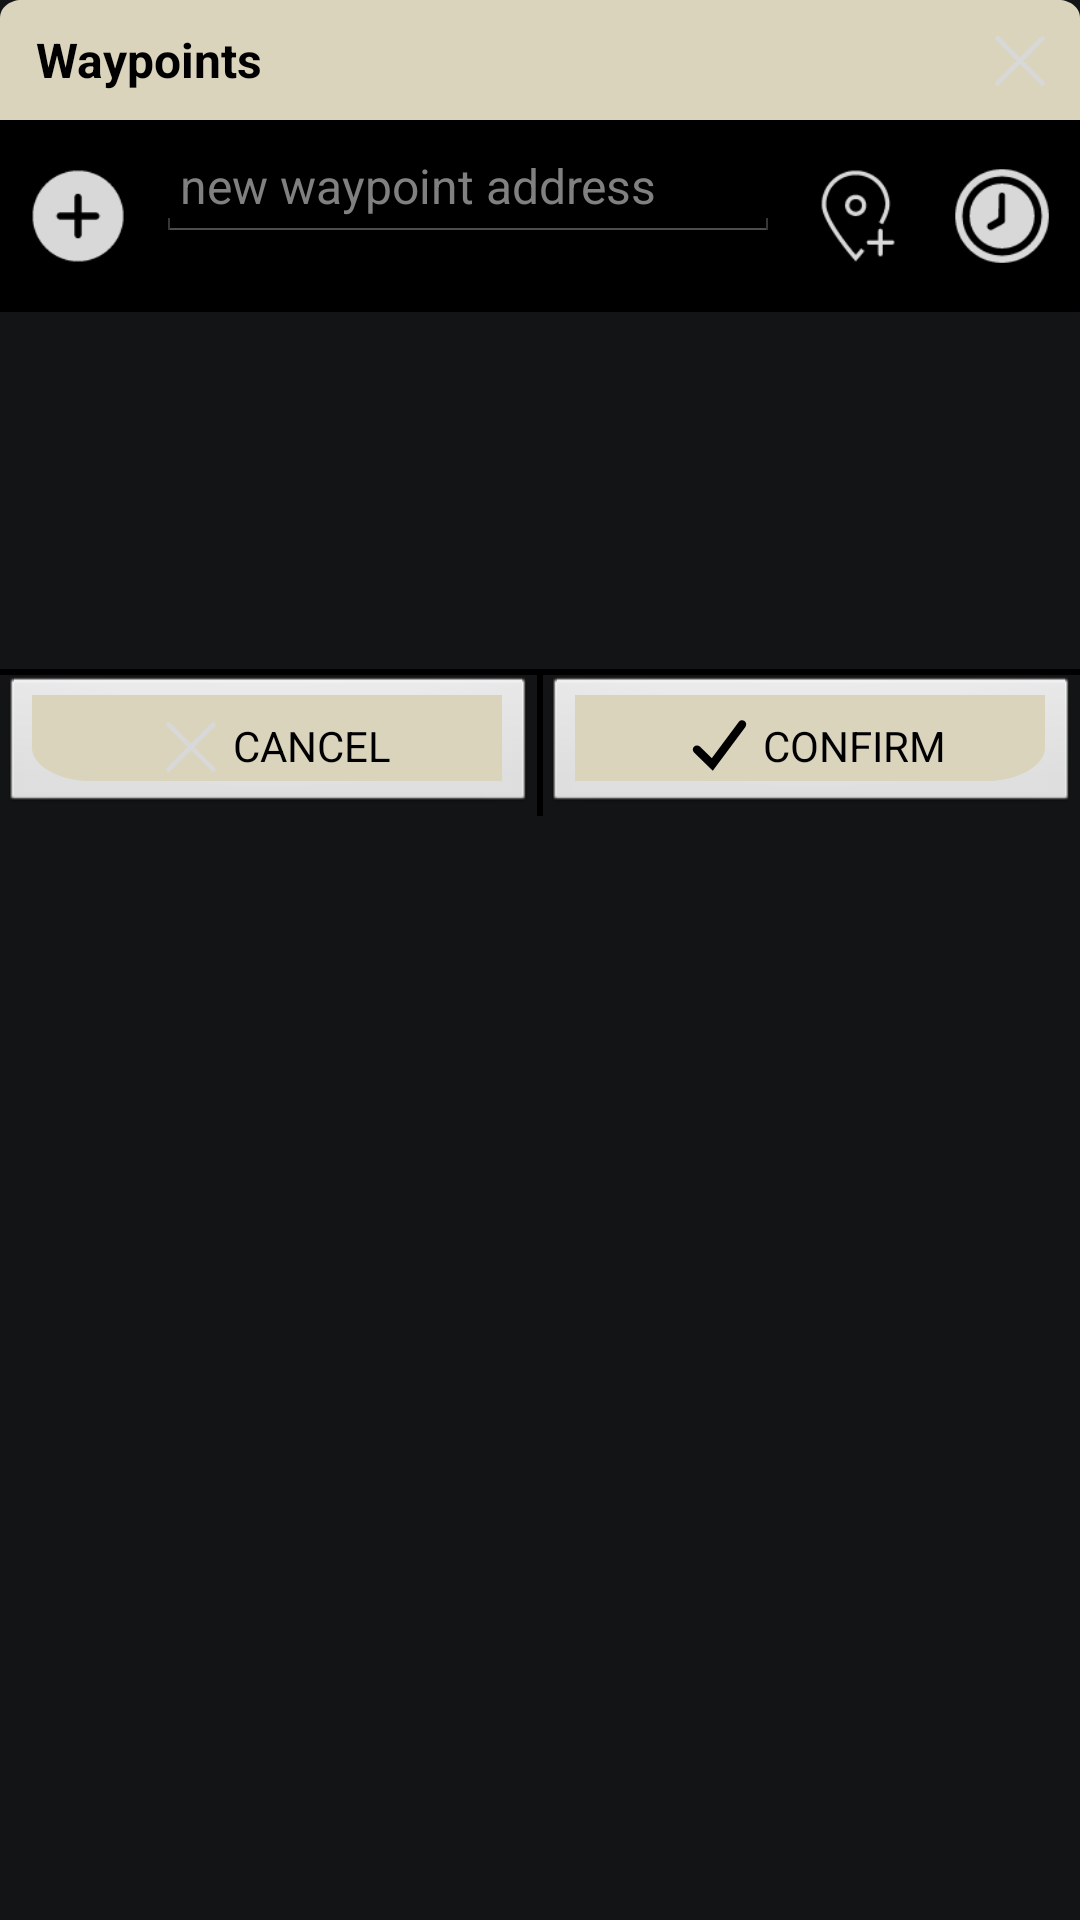

Where icons sit on this 1080 x 1920 app screen, as [x1=x1, y1=y1, x2=x2, y2=y2]:
delete: [x1=995, y1=36, x2=1044, y2=86], [x1=146, y1=722, x2=233, y2=789]
